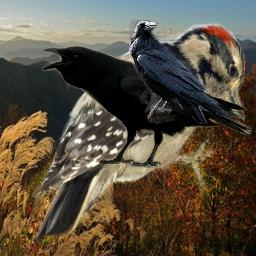Crow: (42, 46, 253, 169), (129, 20, 238, 124)
Woodpecker: (14, 21, 245, 252)
